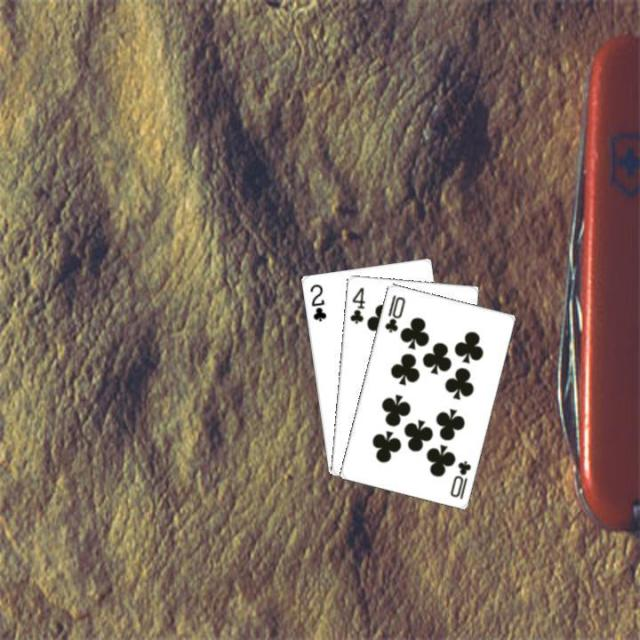10C: (446, 456, 473, 500), (381, 291, 407, 334)
2C: (306, 280, 328, 323)
4C: (346, 283, 366, 325)
